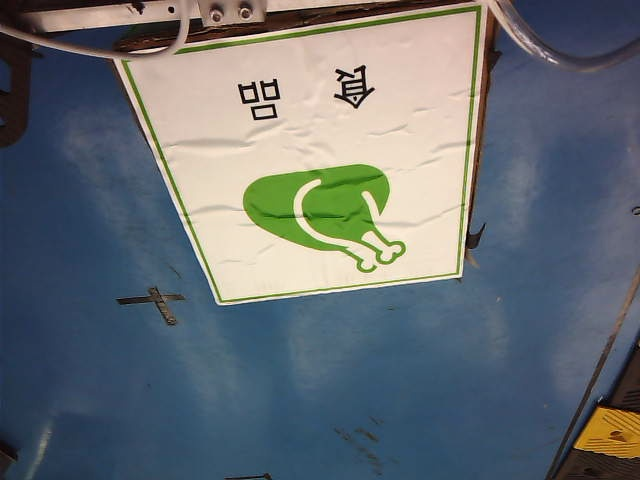Cube_food: (216, 58, 423, 281)
